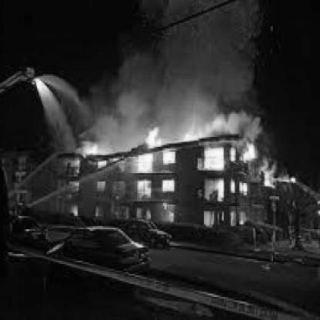Fire: (203, 176, 227, 202)
